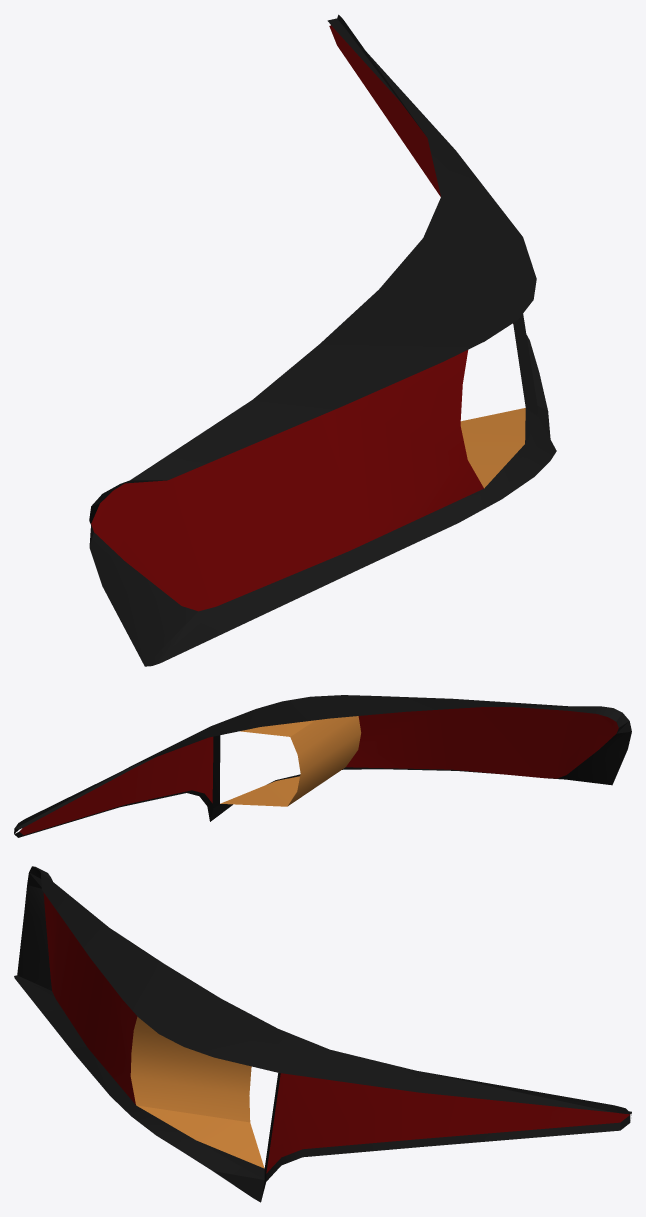
3 views of the same model, one above another, from view 1: azimuth 30°, elevation 25°; view 2: azimuth 150°, elevation 25°; view 3: azimuth 270°, elevation 25° (orthographic). The views are drawn at different scales.
Parts seen in each view (by area): view 1: SubMesh0010; view 2: SubMesh0010; view 3: SubMesh0010.
Part boxes in pixels (x1,y1,x2,y2): SubMesh0010: (89,14,556,666); SubMesh0010: (14,695,631,837); SubMesh0010: (14,866,631,1202).
Bounding box in the file's own units: 85.08 × 27.01 × 100.
